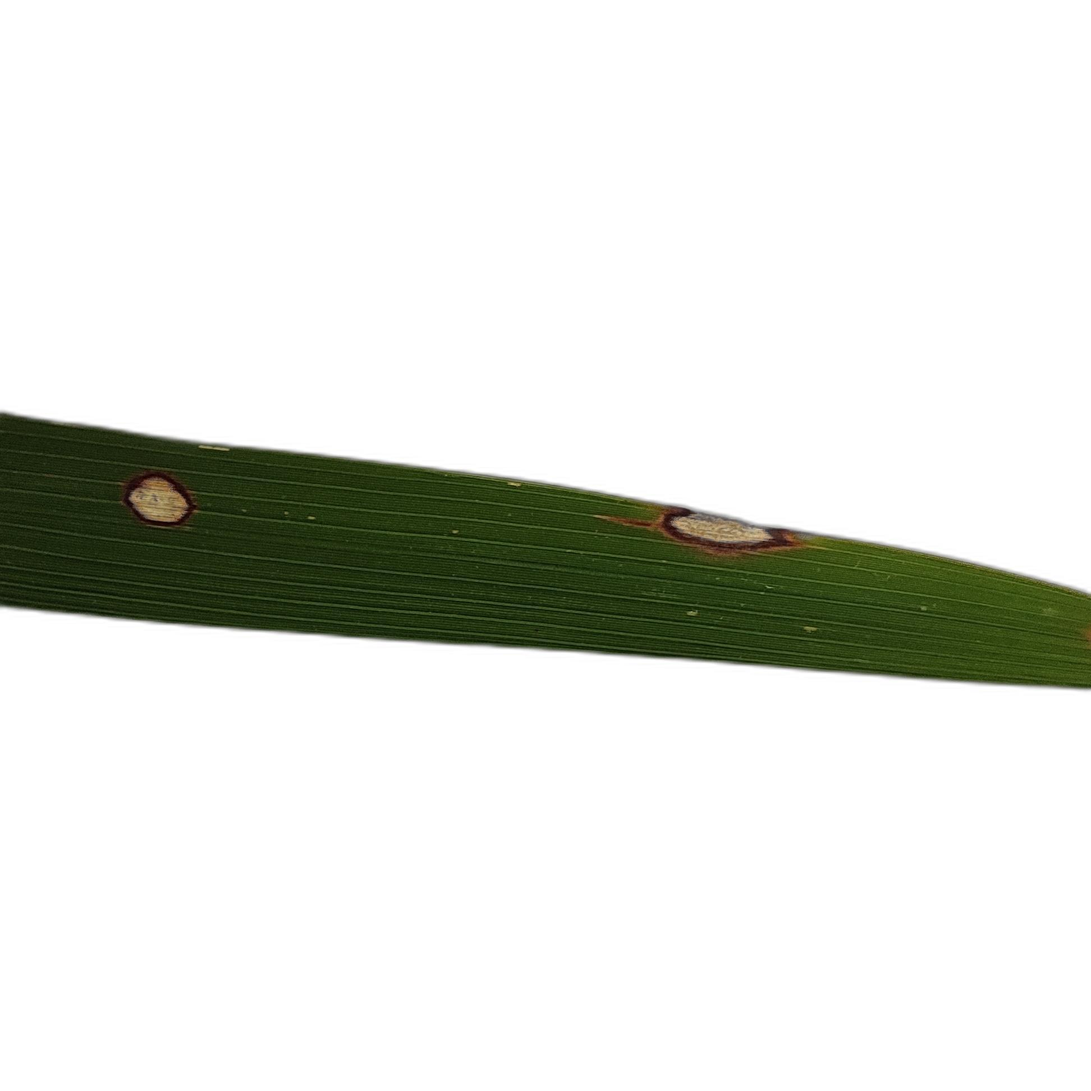LEAF BLAST: (593, 507, 806, 558), (120, 469, 198, 529)
